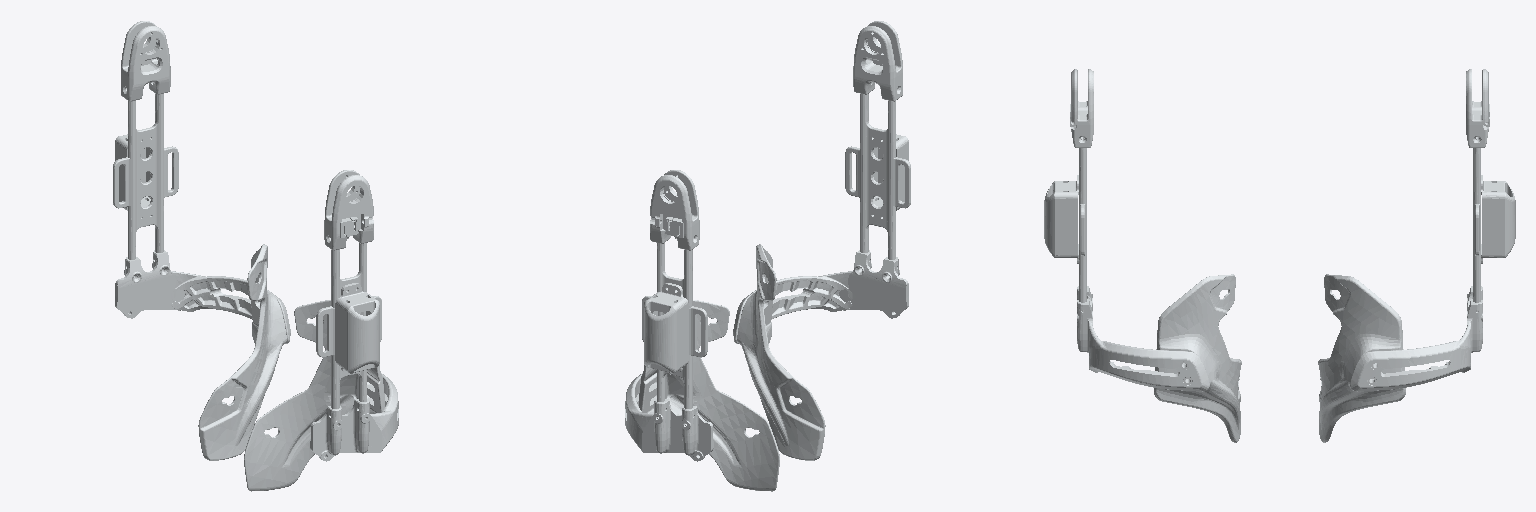
URDF robot description (2DEXO):
<?xml version="1.0" encoding="utf-8"?>
<!-- This URDF was automatically created by SolidWorks to URDF Exporter! Originally created by [author] ([email redacted]) 
     Commit Version: 1.6.0-4-g7f85cfe  Build Version: 1.6.7995.38578
     For more information, please see http://wiki.ros.org/sw_urdf_exporter -->
<robot
  name="2DEXO">
  <link
    name="baselink">
    <inertial>
      <origin
        xyz="-0.03873 -0.0011896 0.034836"
        rpy="0 0 0" />
      <mass
        value="4.6909" />
      <inertia
        ixx="0.011728"
        ixy="6.0956E-06"
        ixz="-2.7185E-05"
        iyy="0.0057606"
        iyz="-2.1839E-05"
        izz="0.009448" />
    </inertial>
    <visual>
      <origin
        xyz="0 0 0"
        rpy="0 0 0" />
      <geometry>
        <mesh
          filename="package://2DEXO/meshes/baselink.STL" />
      </geometry>
      <material
        name="">
        <color
          rgba="0.89804 0.91765 0.92941 1" />
      </material>
    </visual>
    <collision>
      <origin
        xyz="0 0 0"
        rpy="0 0 0" />
      <geometry>
        <mesh
          filename="package://2DEXO/meshes/baselink.STL" />
      </geometry>
    </collision>
  </link>

  <joint
    name="rjoint"
    type="revolute">
    <origin
      xyz="0.07575 -0.17837 -0.20332"
      rpy="0 0 0" />
    <parent
      link="baselink" />
    <child
      link="rlink" />
    <axis
      xyz="0 -1 0" />
    <limit
      lower="-10"
      upper="40"
      effort="5"
      velocity="2" />
  </joint>

  <link
    name="rlink">
    <inertial>
      <origin
        xyz="0.028006 0.038116 -1.19944"
        rpy="0 0 0" />
      <mass
        value="0.59134" />
      <inertia
        ixx="0.0011099"
        ixy="-5.4467E-05"
        ixz="-0.00014305"
        iyy="0.0012128"
        iyz="0.00015193"
        izz="0.00074586" />
    </inertial>
    <visual>
      <origin
        xyz="0 0 0"
        rpy="0 0 0" />
      <geometry>
        <mesh
          filename="package://2DEXO/meshes/rlink.STL" />
      </geometry>
      <material
        name="">
        <color
          rgba="0.89804 0.91765 0.92941 1" />
      </material>
    </visual>
    <collision>
      <origin
        xyz="0 0 0"
        rpy="0 0 0" />
      <geometry>
        <mesh
          filename="package://2DEXO/meshes/rlink.STL" />
      </geometry>
    </collision>
  </link>

  <link
    name="llink">
    <inertial>
      <origin
        xyz="0.027997 -0.038116 -0.19943"
        rpy="0 0 0" />
      <mass
        value="0.59123" />
      <inertia
        ixx="0.0011098"
        ixy="5.4478E-05"
        ixz="-0.00014307"
        iyy="0.0012127"
        iyz="-0.00015194"
        izz="0.0007458" />
    </inertial>
    <visual>
      <origin
        xyz="0 0 0"
        rpy="0 0 0" />
      <geometry>
        <mesh
          filename="package://2DEXO/meshes/llink.STL" />
      </geometry>
      <material
        name="">
        <color
          rgba="0.89804 0.91765 0.92941 1" />
      </material>
    </visual>
    <collision>
      <origin
        xyz="0 0 0"
        rpy="0 0 0" />
      <geometry>
        <mesh
          filename="package://2DEXO/meshes/llink.STL" />
      </geometry>
    </collision>
  </link>

  <joint
    name="ljoint"
    type="revolute">
    <origin
      xyz="0.07575 0.17838 -0.20332"
      rpy="0 0 0" />
    <parent
      link="baselink" />
    <child
      link="llink" />
    <axis
      xyz="0 -1 0" />
    <limit
      lower="-10"
      upper="40"
      effort="5"
      velocity="2" />
  </joint>

</robot>

--- Render facts (derived) ---
3 views of the same robot in one strip: view 1: azimuth 30°, elevation 25°; view 2: azimuth 150°, elevation 25°; view 3: azimuth 270°, elevation 25° (orthographic).
Model 2DEXO with 3 links and 2 joints (2 revolute), rooted at baselink, posed every joint at zero.
Visible links, largest first — view 1: llink, rlink; view 2: rlink, llink; view 3: rlink, llink.
Link boxes in pixels (box(x1,y1,x2,y2)): llink: box(113, 21, 290, 460); rlink: box(244, 170, 398, 491); rlink: box(733, 21, 910, 460); llink: box(625, 170, 779, 491); rlink: box(1044, 69, 1241, 442); llink: box(1318, 69, 1515, 442).
Size in the robot's own frame: 0.1274 by 0.4557 by 0.3893 metres.
2 mesh visuals loaded from 3 distinct referenced files (2 binary STL); not drawn: 1 (reference not matched to a file when rendering).